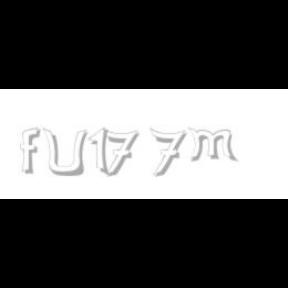1: (88, 128, 110, 176)
7: (102, 128, 140, 178), (150, 128, 186, 178)
U: (42, 128, 86, 178)
f: (20, 128, 44, 174)
m: (187, 128, 239, 162)
